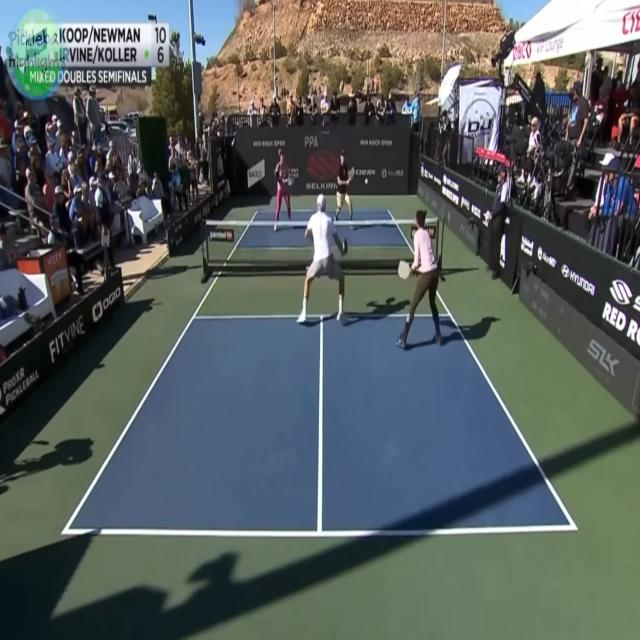ball: (364, 174, 369, 188)
